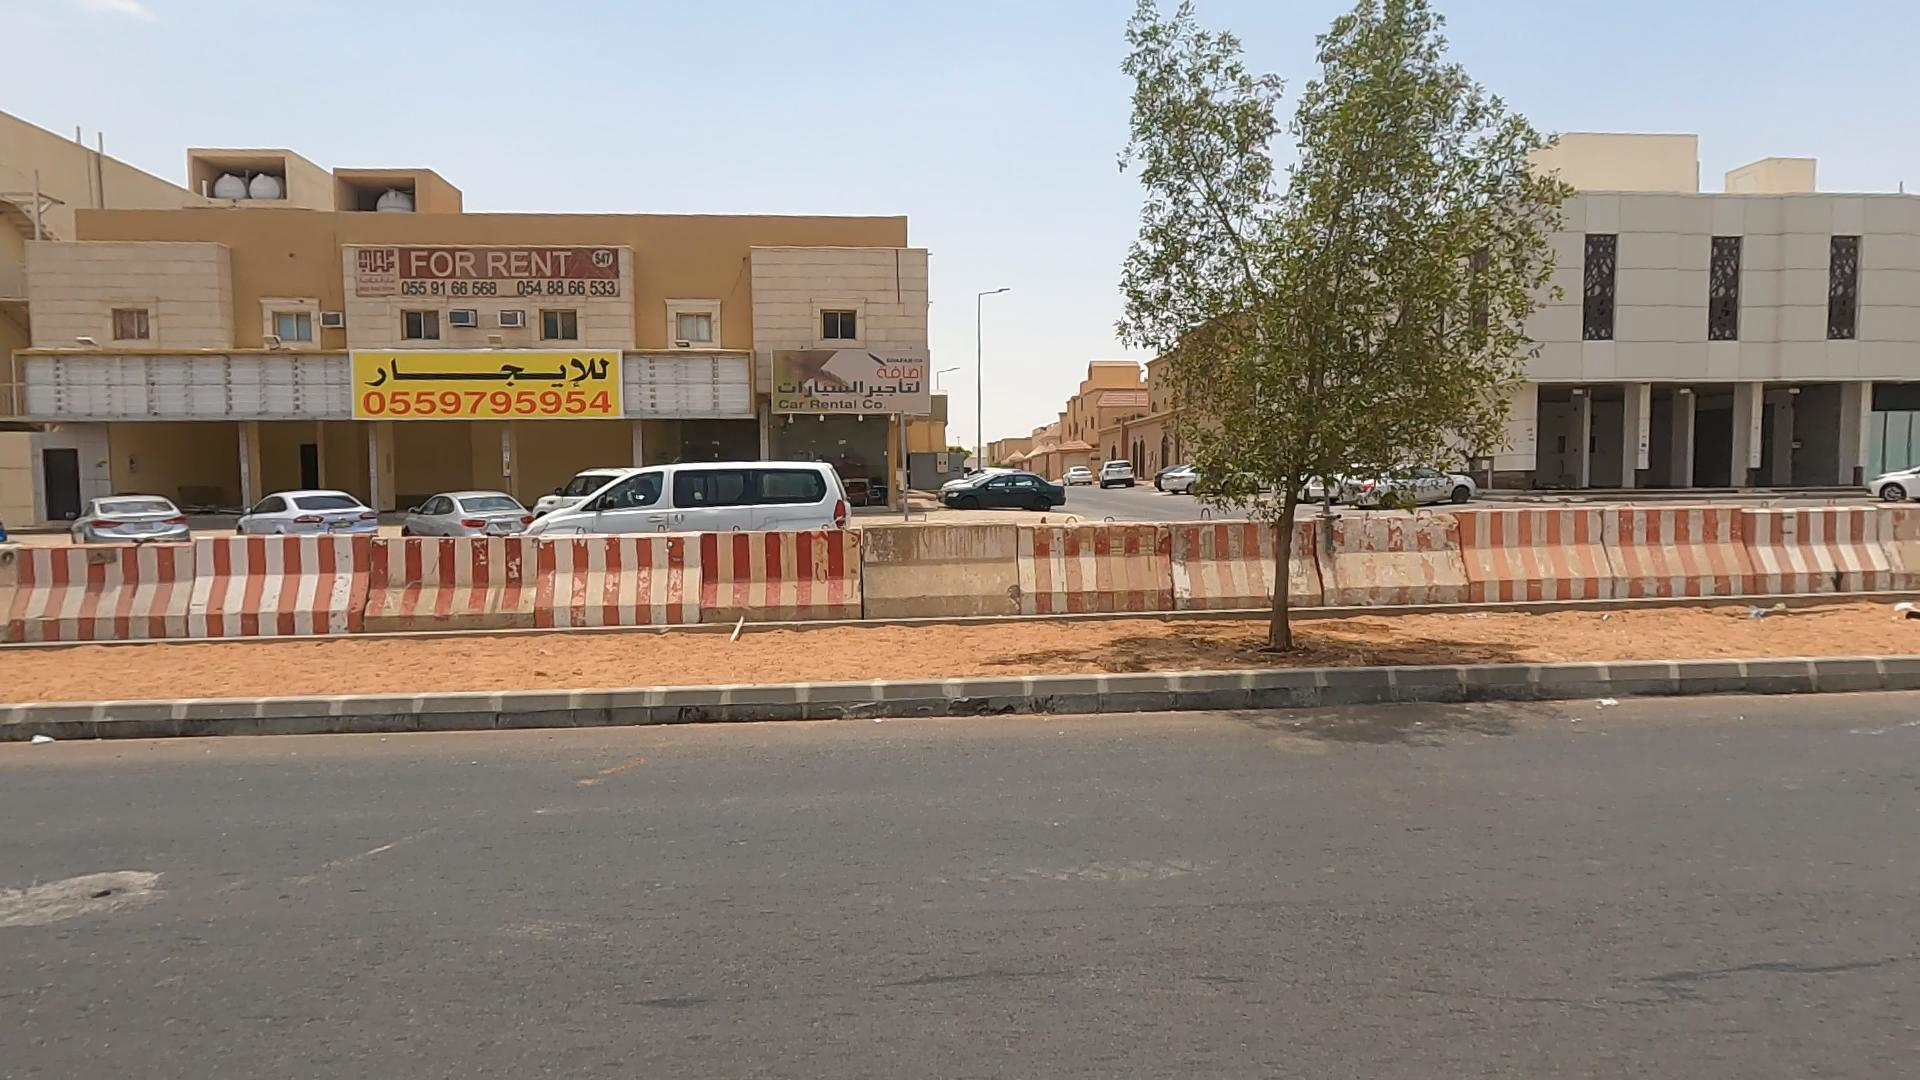CONSTRUCTION_ROAD: (9, 426, 1071, 693)
